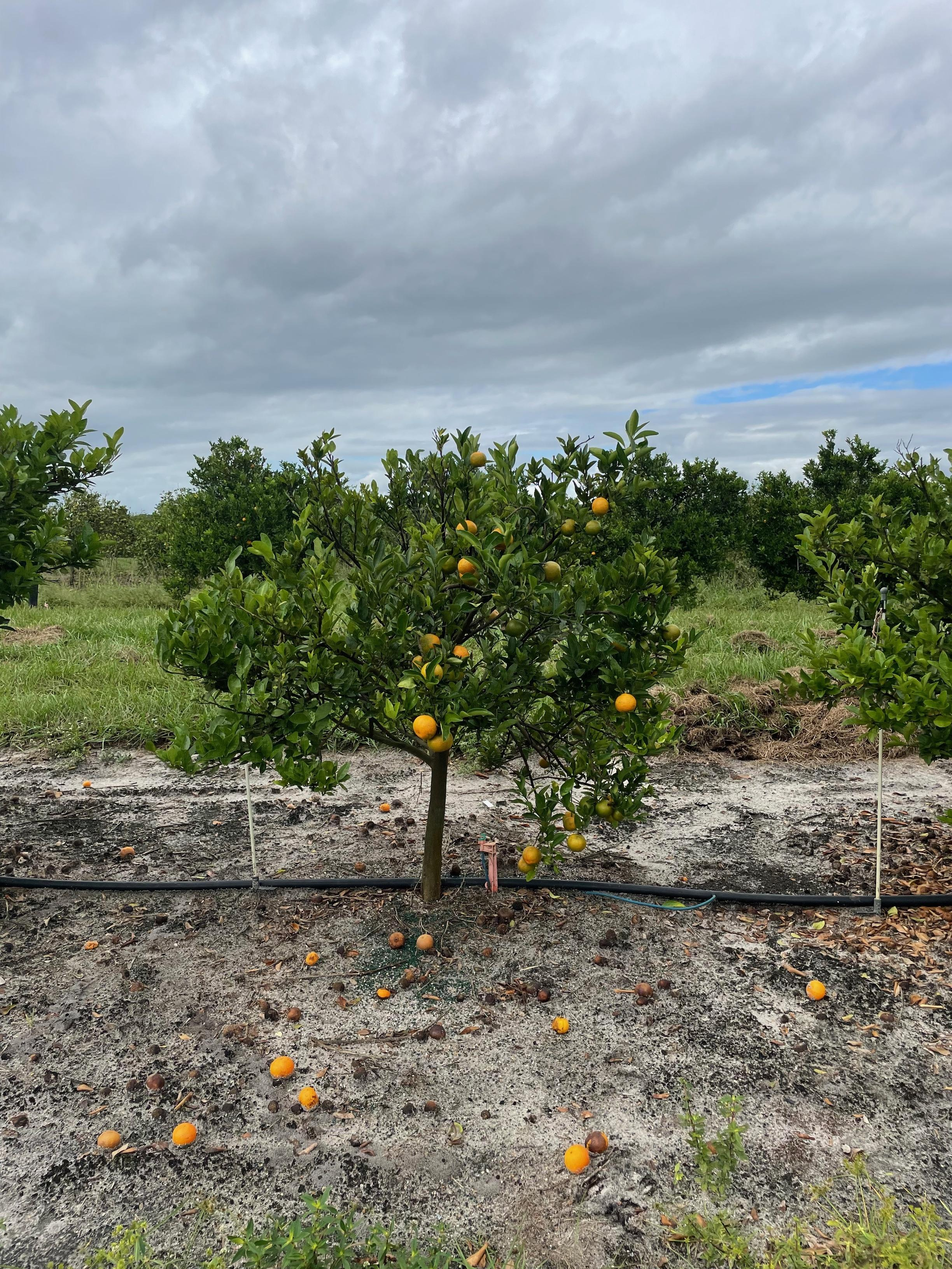fruit_on_ground: (487, 524, 516, 552), (425, 727, 455, 754), (411, 713, 439, 741), (443, 643, 471, 669), (418, 660, 445, 686), (453, 517, 480, 541), (417, 630, 443, 654), (539, 559, 564, 583), (457, 565, 483, 588), (613, 691, 638, 714), (503, 616, 527, 639), (519, 844, 543, 867), (576, 795, 600, 818), (564, 831, 588, 853), (659, 622, 682, 644), (438, 553, 460, 575), (589, 496, 612, 517), (466, 449, 489, 470), (558, 517, 579, 538), (456, 556, 478, 576), (481, 606, 502, 626), (594, 798, 614, 819), (410, 654, 430, 673), (583, 518, 603, 537), (517, 855, 536, 874), (562, 809, 580, 827), (602, 807, 620, 824), (609, 806, 626, 823), (562, 816, 579, 833), (570, 724, 587, 740), (537, 755, 553, 770)
fruit_on_tree: (563, 1143, 591, 1175), (171, 1121, 198, 1145), (586, 1128, 611, 1153), (296, 1084, 320, 1110), (269, 1054, 295, 1078), (96, 1128, 121, 1150), (804, 977, 827, 1000), (550, 1015, 571, 1035), (144, 1072, 166, 1091), (414, 932, 435, 951), (387, 930, 407, 949), (428, 1022, 446, 1041), (285, 1005, 303, 1022), (634, 979, 653, 995), (495, 904, 513, 920), (303, 950, 320, 966), (119, 844, 137, 859), (374, 985, 392, 999), (656, 976, 671, 991), (352, 858, 367, 872), (536, 988, 551, 1002), (635, 994, 651, 1007), (378, 800, 392, 813), (328, 811, 340, 822), (81, 779, 93, 789)
